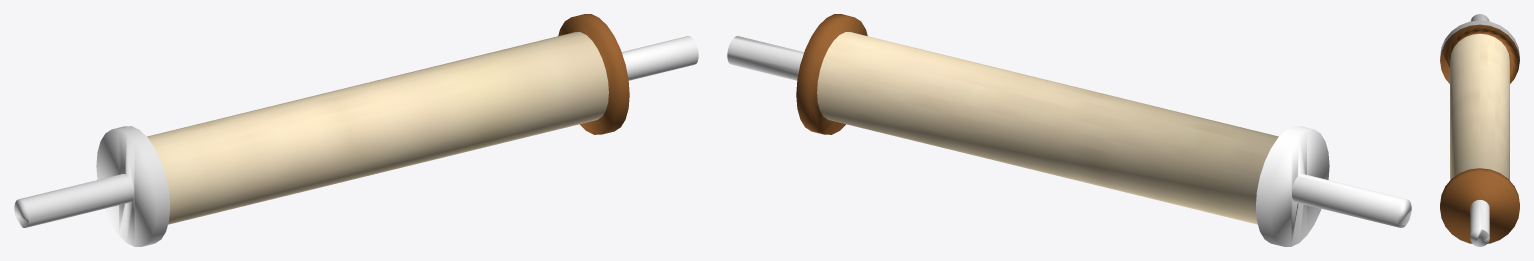
Rendered from scroll.fbx.
3 views of the same model, side by side, from view 1: azimuth 30°, elevation 25°; view 2: azimuth 150°, elevation 25°; view 3: azimuth 270°, elevation 25° (orthographic). The views are drawn at different scales.
Parts seen in each view (by area): view 1: Group1; view 2: Group1; view 3: Group1.
Boxes of the visible parts, bbox=[...] form: Group1: bbox=[14, 14, 698, 246]; Group1: bbox=[727, 14, 1411, 246]; Group1: bbox=[1440, 14, 1519, 246].
Size of the model in its own units: 1.38 by 0.2169 by 0.2169.
